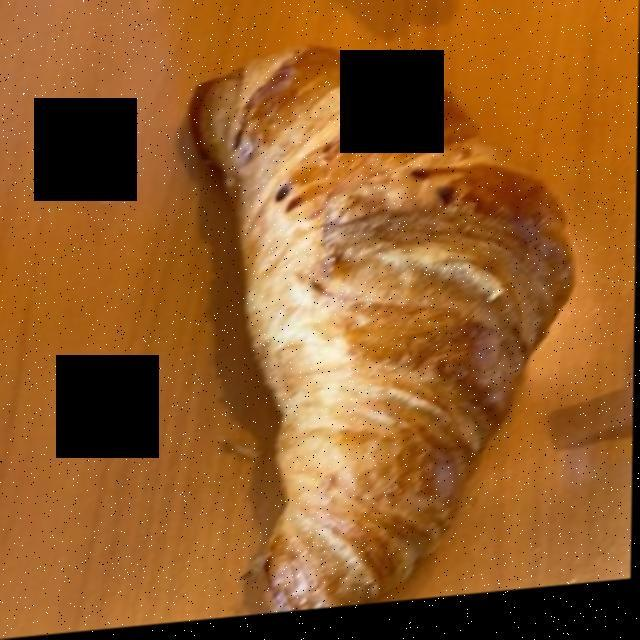croissant: (190, 56, 568, 606)
